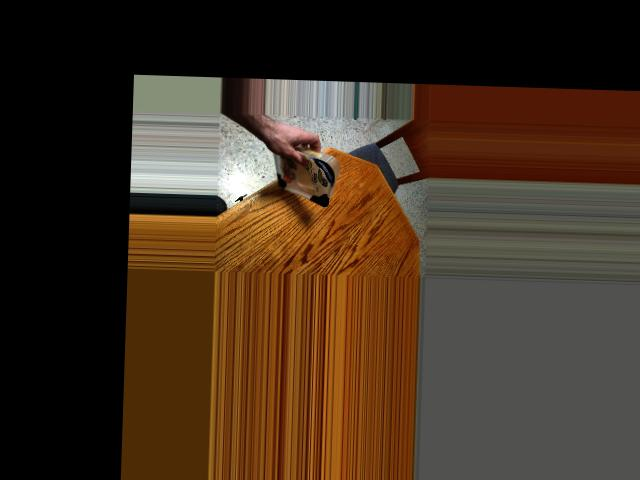cheese: (265, 149, 336, 202)
